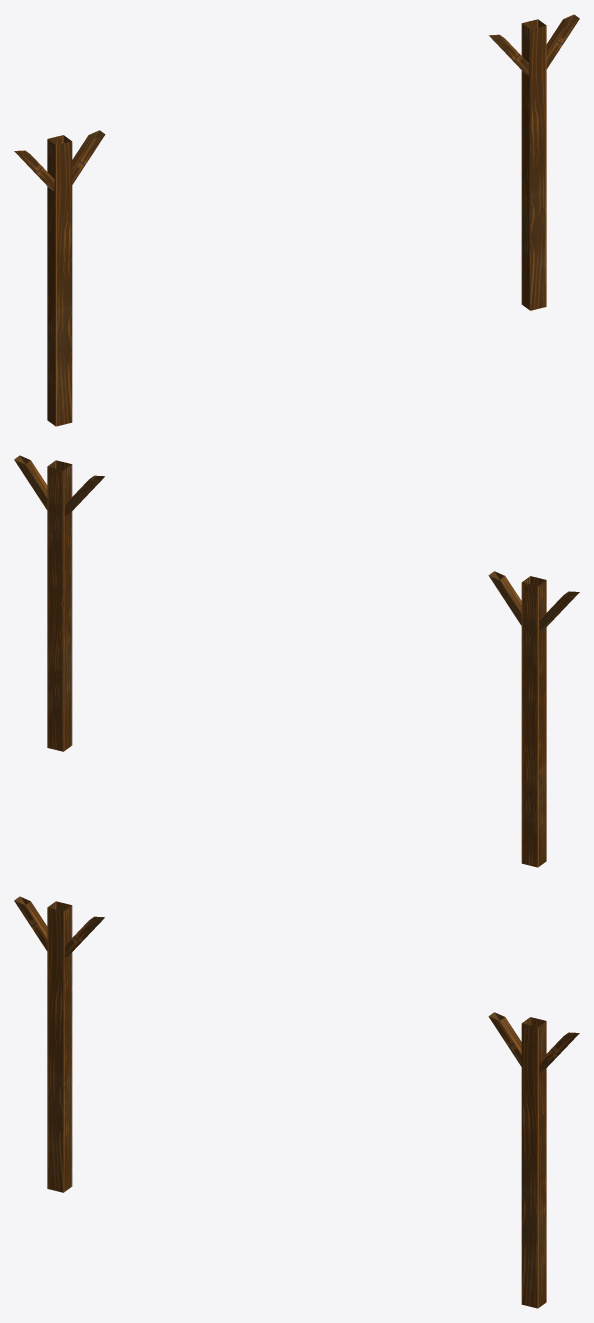
3 renders of one model, top to bottom at view 1: azimuth 30°, elevation 25°; view 2: azimuth 150°, elevation 25°; view 3: azimuth 330°, elevation 25°, orthographic.
Parts seen in each view (by area): view 1: Cube.1568; view 2: Cube.1568; view 3: Cube.1568.
Part boxes in pixels (left/top/right/bottom): Cube.1568: left=14, top=14, right=579, bottom=426; Cube.1568: left=14, top=455, right=579, bottom=867; Cube.1568: left=14, top=896, right=579, bottom=1308.
Bounding box in the file's own units: 871 × 418 × 23.25.
1 material, 1 textured.
